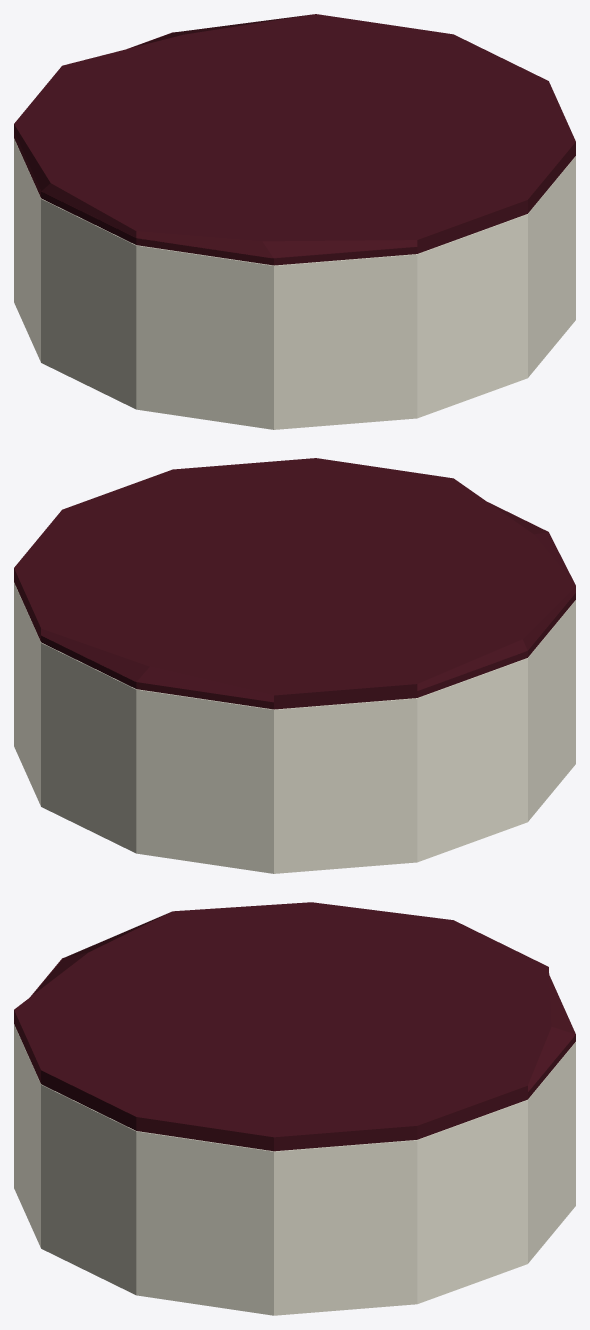
File: layer2middle.glb
The picture shows the model from 3 angles, top to bottom: view 1: azimuth 30°, elevation 25°; view 2: azimuth 150°, elevation 25°; view 3: azimuth 270°, elevation 25°; orthographic projection.
Visible parts, largest first — view 1: Cylinder.013, Cylinder.011, Cylinder.012; view 2: Cylinder.013, Cylinder.011, Cylinder.012; view 3: Cylinder.013, Cylinder.011, Cylinder.012.
Boxes of the visible parts, left/top/right/bottom form: Cylinder.013: left=14, top=14, right=575, bottom=258; Cylinder.011: left=14, top=138, right=575, bottom=429; Cylinder.012: left=14, top=32, right=575, bottom=265; Cylinder.013: left=14, top=458, right=575, bottom=702; Cylinder.011: left=14, top=582, right=575, bottom=873; Cylinder.012: left=14, top=502, right=575, bottom=709; Cylinder.013: left=14, top=902, right=574, bottom=1144; Cylinder.011: left=14, top=1024, right=575, bottom=1315; Cylinder.012: left=14, top=957, right=575, bottom=1151.
Bounding box in the file's own units: 1.25 × 0.4404 × 1.25.
